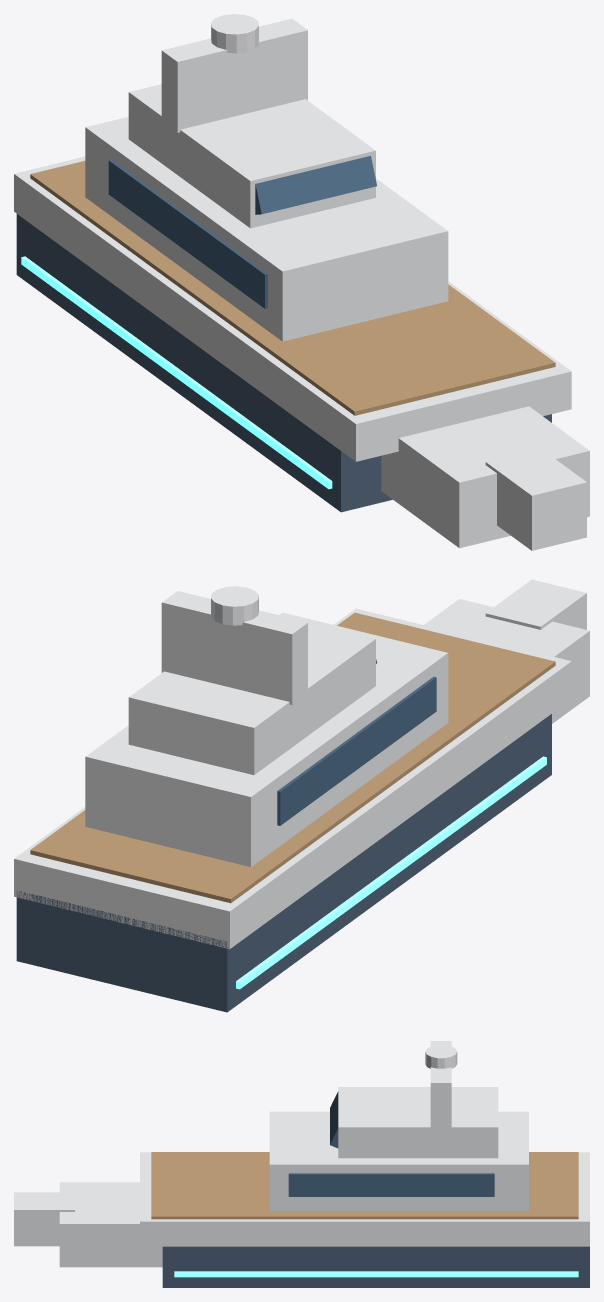
The model's file is yacht.glb.
3 views of the same model, one above another, from view 1: azimuth 30°, elevation 25°; view 2: azimuth 150°, elevation 25°; view 3: azimuth 270°, elevation 25° (orthographic). The views are drawn at different scales.
Parts seen in each view (by area): view 1: SaloonL, MainDeck, HullUpper, HullLower, FlyBridge, HullBow, RadarArch, HullTip, SaloonWin, BridgeGlass, WaterNeon, RadarDome; view 2: HullLower, SaloonL, HullUpper, MainDeck, FlyBridge, RadarArch, SaloonWin, HullBow, WaterNeon, HullTip, RadarDome; view 3: HullLower, HullUpper, MainDeck, SaloonL, FlyBridge, HullBow, SaloonWin, WaterNeon, HullTip, RadarArch, RadarDome, BridgeGlass.
Boxes of the visible parts, box(x1,y1,x2,y2) form: SaloonL: box(85, 117, 448, 341); MainDeck: box(30, 161, 555, 415); HullUpper: box(14, 156, 571, 461); HullLower: box(16, 214, 551, 512); FlyBridge: box(128, 84, 375, 228); HullBow: box(381, 406, 589, 548); RadarArch: box(161, 18, 307, 132); HullTip: box(485, 448, 586, 550); SaloonWin: box(108, 159, 267, 308); BridgeGlass: box(255, 156, 376, 214); WaterNeon: box(21, 256, 332, 489); RadarDome: box(211, 14, 258, 53); HullLower: box(16, 714, 551, 1012); SaloonL: box(85, 612, 448, 866); HullUpper: box(14, 608, 571, 949); MainDeck: box(30, 612, 555, 903); FlyBridge: box(128, 610, 375, 774); RadarArch: box(161, 591, 307, 704); SaloonWin: box(277, 676, 436, 825); HullBow: box(424, 599, 589, 723); WaterNeon: box(236, 756, 546, 989); HullTip: box(485, 579, 586, 629); RadarDome: box(211, 586, 258, 625); HullLower: box(162, 1246, 589, 1287); HullUpper: box(140, 1152, 589, 1246); MainDeck: box(151, 1152, 578, 1219); SaloonL: box(269, 1111, 528, 1210); FlyBridge: box(338, 1087, 498, 1158); HullBow: box(59, 1182, 162, 1267); SaloonWin: box(288, 1173, 494, 1196); WaterNeon: box(174, 1271, 578, 1277); HullTip: box(14, 1192, 74, 1246); RadarArch: box(430, 1041, 451, 1129); RadarDome: box(425, 1045, 457, 1068); BridgeGlass: box(330, 1091, 338, 1148).
Bounding box in the file's own units: 4.35 × 5.86 × 15.1.
